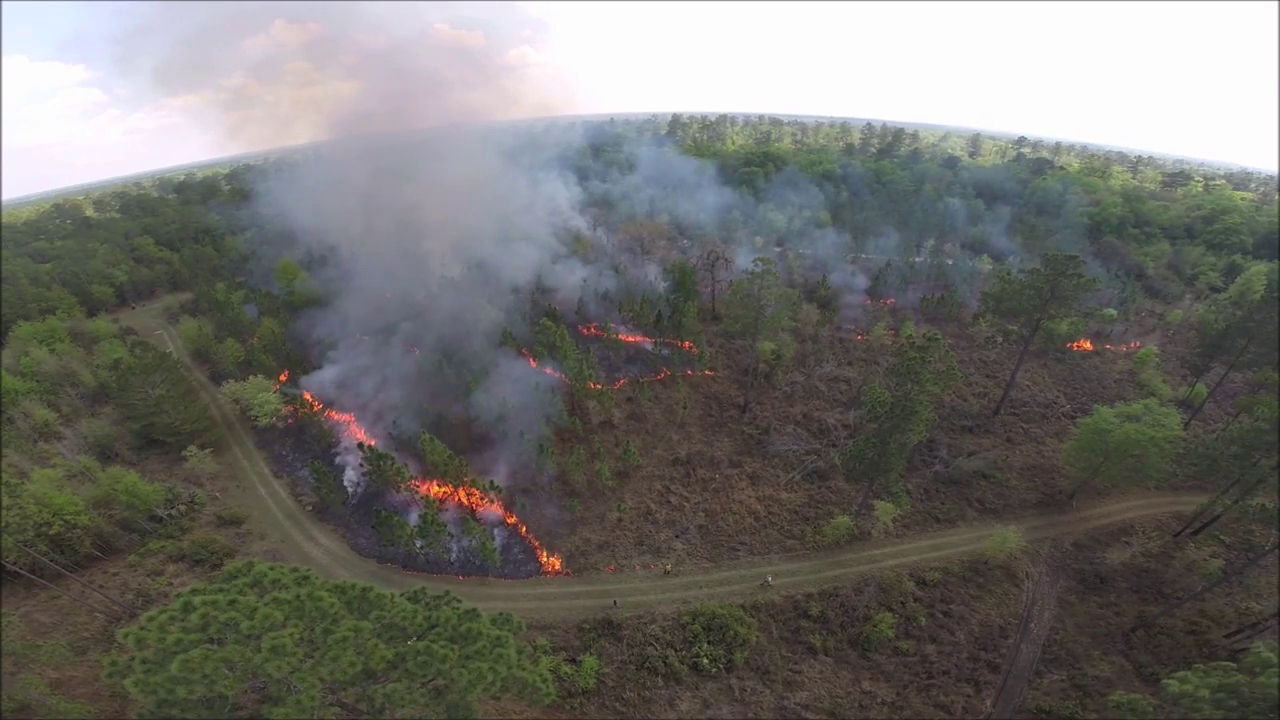forest_fire: (409, 479, 568, 573), (410, 478, 568, 572), (301, 391, 375, 445), (302, 391, 375, 445), (576, 323, 697, 354), (592, 366, 712, 389), (520, 349, 567, 381), (1065, 337, 1141, 351), (274, 368, 287, 389), (277, 370, 287, 387), (414, 347, 415, 348)
